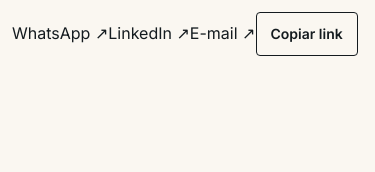
Test case: successful clipboard sharing records only the allowed event name without publication data
Click the button "Copiar link": (307, 34) [256,12,358,56]
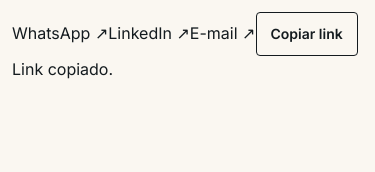
Expected: the message reads "Link copiado.", [12,59,113,79]
